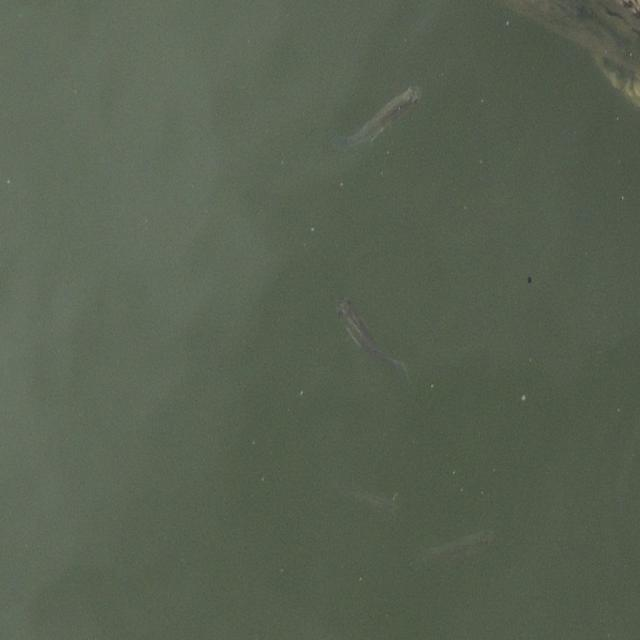Sivrisinek Baligi: (337, 300, 411, 395), (334, 82, 419, 155)
